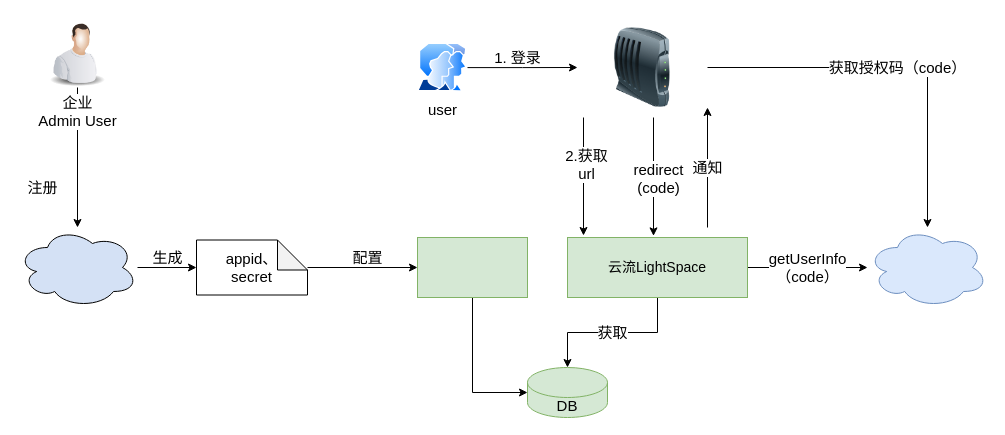
This 1005x435 diagram has some shape labels left out. Each missing label, with the centre of its shape:
"云流Admin" belongs at [472,267].
"钉钉官网" belongs at [77,267].
"钉钉服务" belongs at [927,267].
